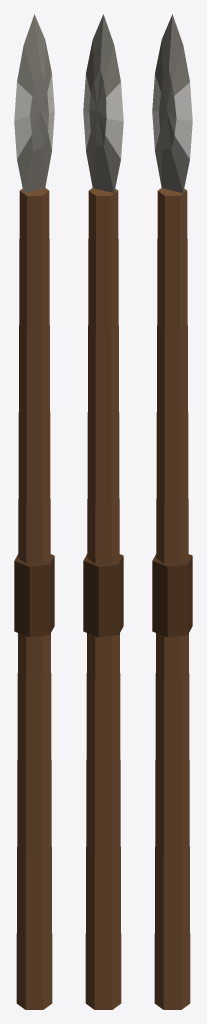
File: wpn_spear_stone_01.fbx
The picture shows the model from 3 angles, left to right: view 1: azimuth 30°, elevation 25°; view 2: azimuth 150°, elevation 25°; view 3: azimuth 330°, elevation 25°; orthographic projection.
Parts seen in each view (by area): view 1: wpn_spear_stone_01; view 2: wpn_spear_stone_01; view 3: wpn_spear_stone_01.
Part boxes in pixels (x1,y1,x2,y2): wpn_spear_stone_01: [14, 14, 54, 1009]; wpn_spear_stone_01: [83, 14, 123, 1009]; wpn_spear_stone_01: [152, 14, 192, 1009].
Size of the model in its own units: 0.06 by 0.0516 by 1.4.
Materials: 1 (1 with a texture image).
